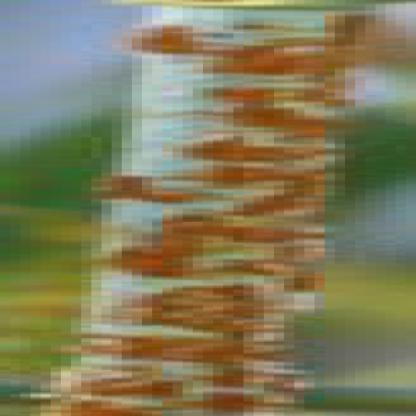wheat Stem Rust: (119, 144, 351, 219), (139, 6, 387, 73), (56, 352, 305, 410), (69, 284, 302, 344), (144, 82, 368, 131), (138, 227, 323, 278)
